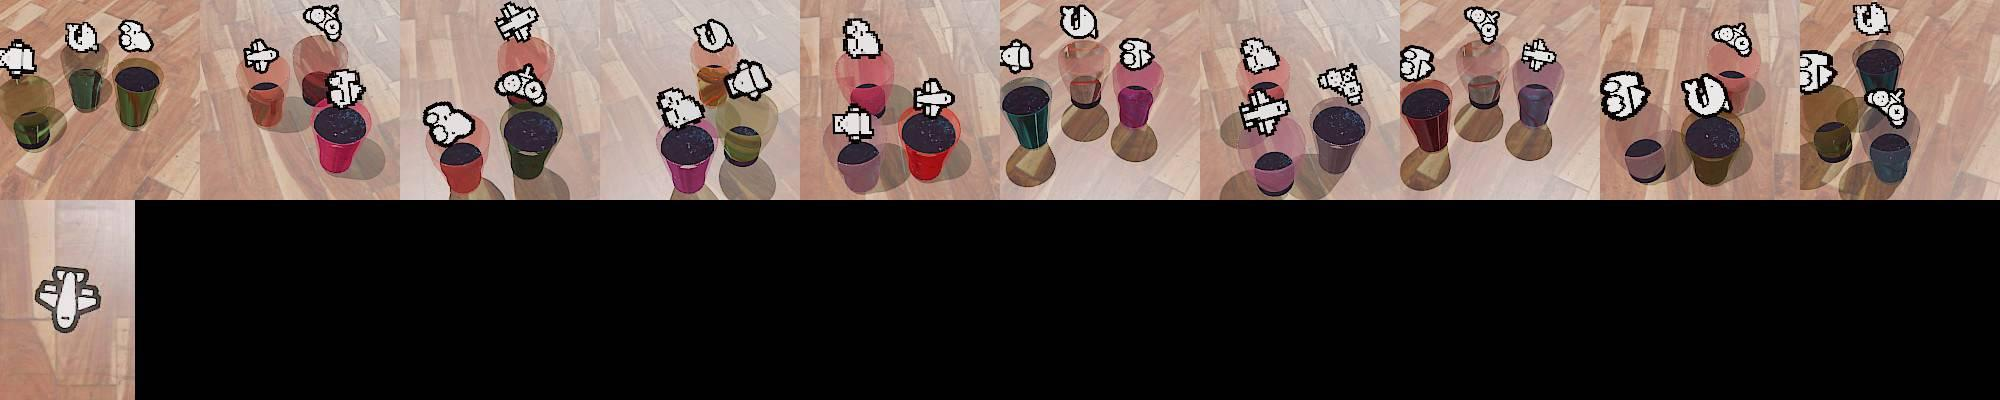icon: (34, 265, 102, 333), (422, 99, 477, 147), (1599, 71, 1649, 121), (493, 62, 547, 107), (1239, 92, 1292, 137), (1681, 73, 1730, 118), (656, 85, 706, 129), (724, 58, 772, 101), (1318, 62, 1364, 106), (908, 76, 957, 115), (494, 2, 539, 43), (324, 67, 367, 109), (842, 16, 883, 59), (1864, 87, 1907, 127), (1799, 50, 1838, 94), (302, 3, 342, 44), (1239, 35, 1281, 74), (1711, 21, 1754, 58), (831, 104, 875, 140), (1058, 3, 1098, 41), (0, 38, 37, 79), (1464, 6, 1501, 45), (1520, 37, 1560, 73), (242, 38, 280, 75), (693, 18, 732, 54), (1400, 44, 1436, 82), (1852, 2, 1892, 36), (999, 38, 1035, 74), (64, 20, 100, 55), (117, 19, 154, 53), (1119, 37, 1155, 70)
